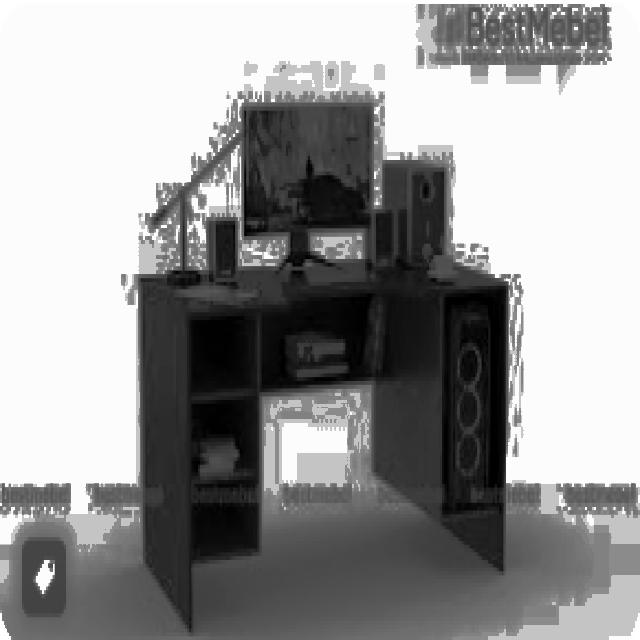table: (139, 255, 508, 632)
